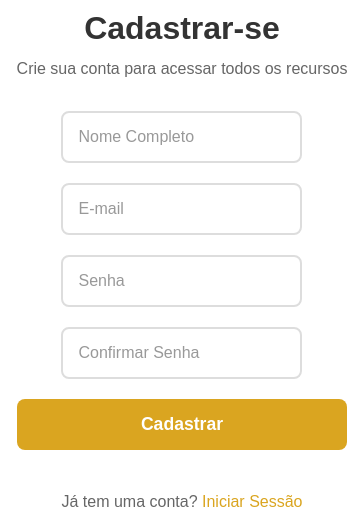
Test: RegisterPage › deve desabilitar o botão e inputs durante o carregamento
Type "Usuário Teste" into the field with placeholder "Nome Completo". click: (182, 137)
box: [62,111,302,163]
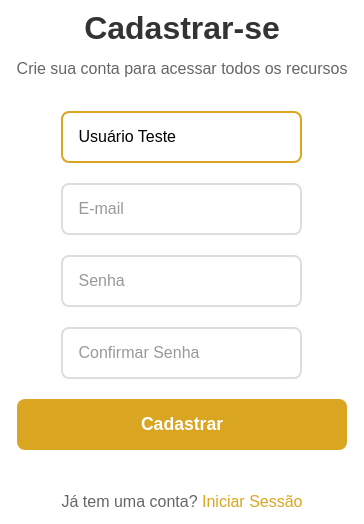
Type "teste@example.com" into the field with placeholder "E-mail". click: (182, 209)
box: [62,183,302,235]
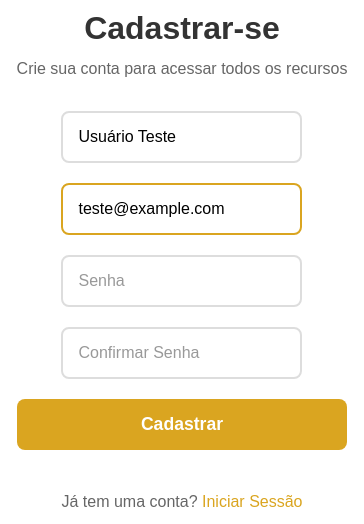
Type "123456" into the password field with placeholder "Senha". click: (182, 281)
box: [62,255,302,307]
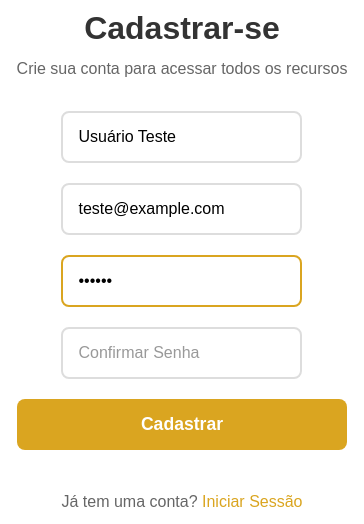
Type "123456" into the password field with placeholder "Confirmar Senha". click: (182, 353)
box: [62,327,302,379]
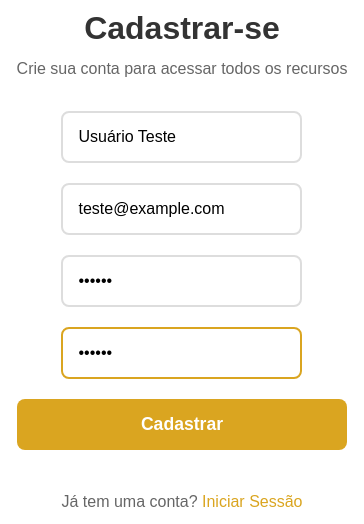
Click the button "Cadastrar". click: (182, 425)
box: [17,399,347,450]
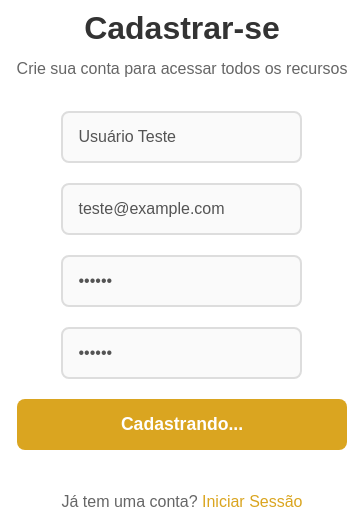
expect the button named "Cadastrar" shows "Cadastrando": met, box [17,399,347,450]
expect the button named "Cadastrar" is disabled: met, box [17,399,347,450]
expect the 1st field with placeholder "Nome Completo" is disabled: met, box [62,111,302,163]
